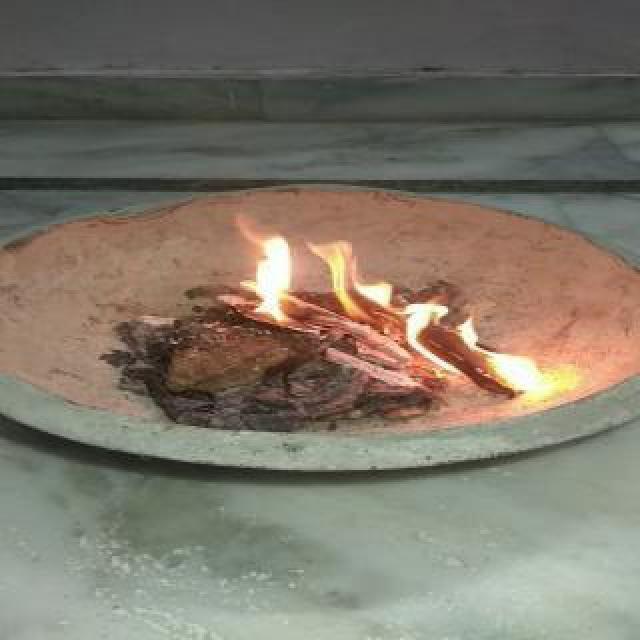zfire: (312, 234, 558, 396), (208, 218, 304, 336)
